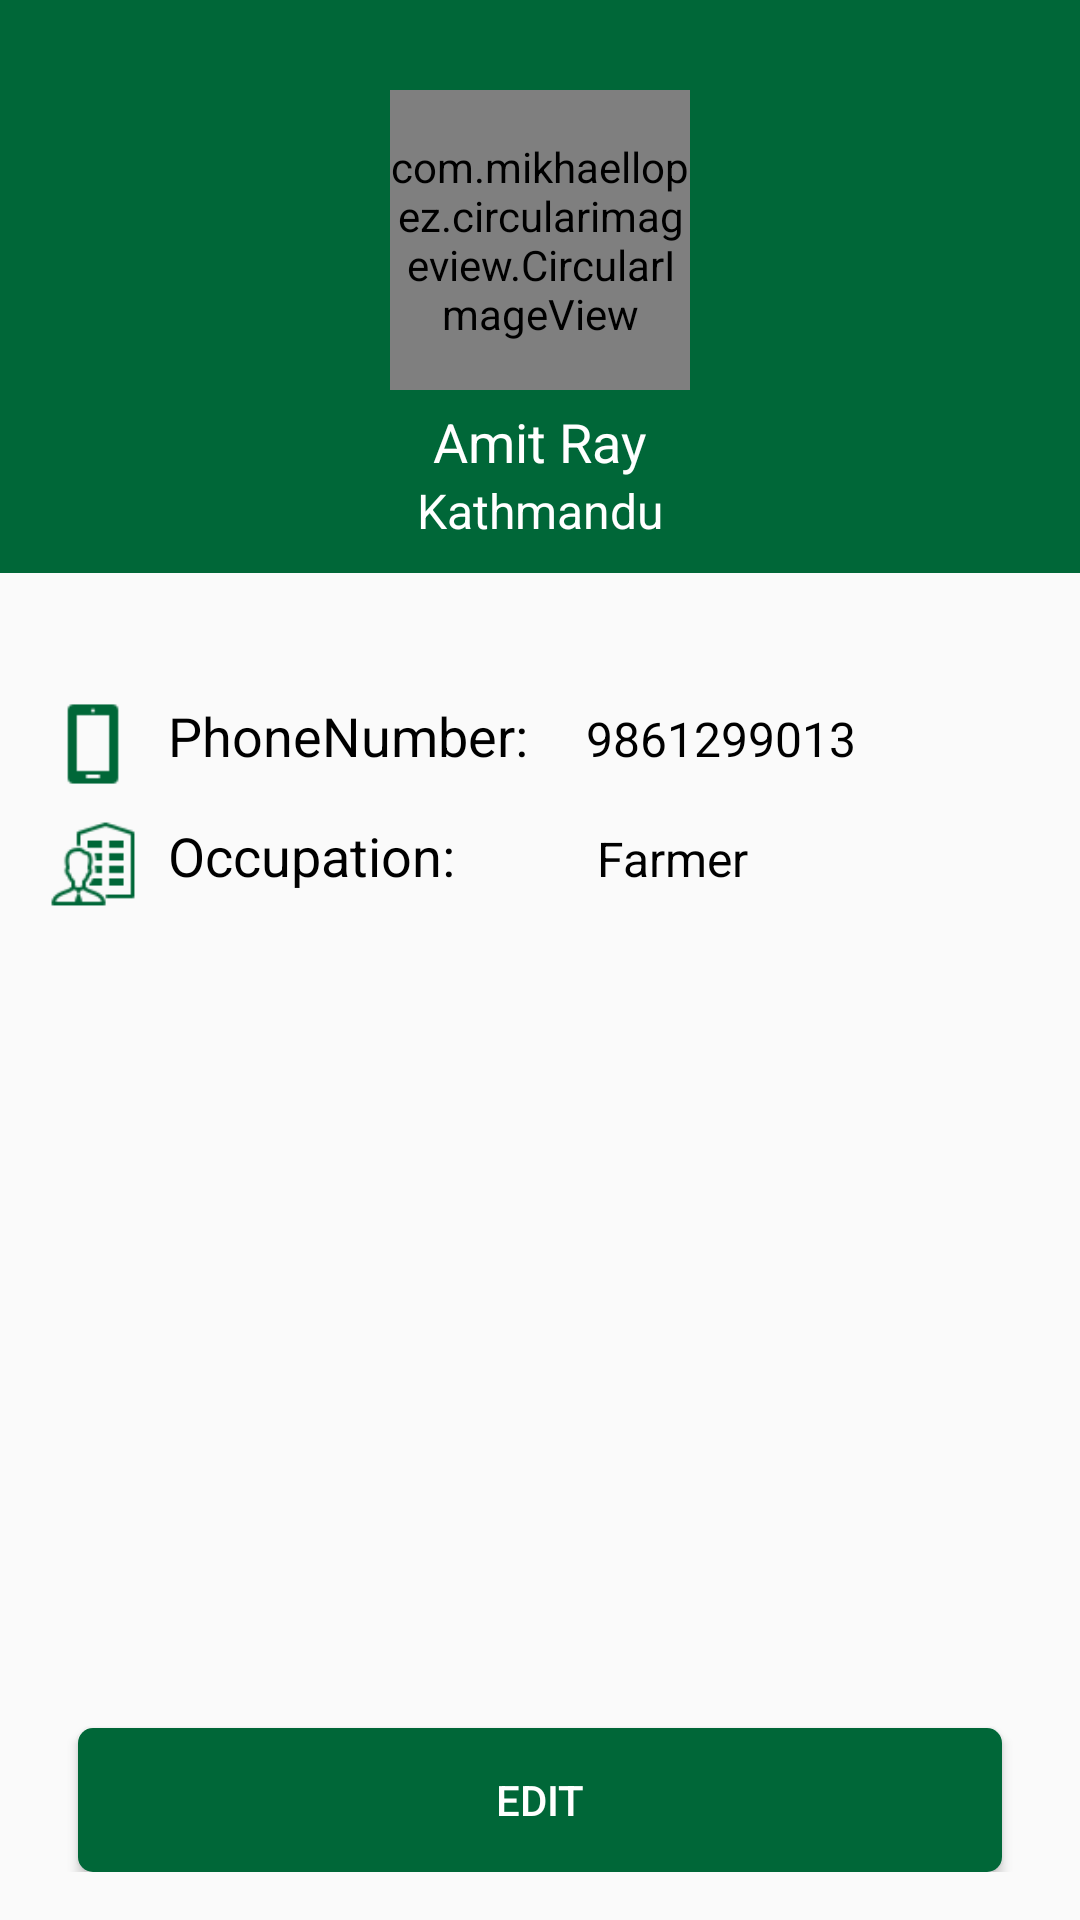

Named icons in this screenshot (1080 × 1920) and their centers, point (x, y):
job: point (93, 864)
